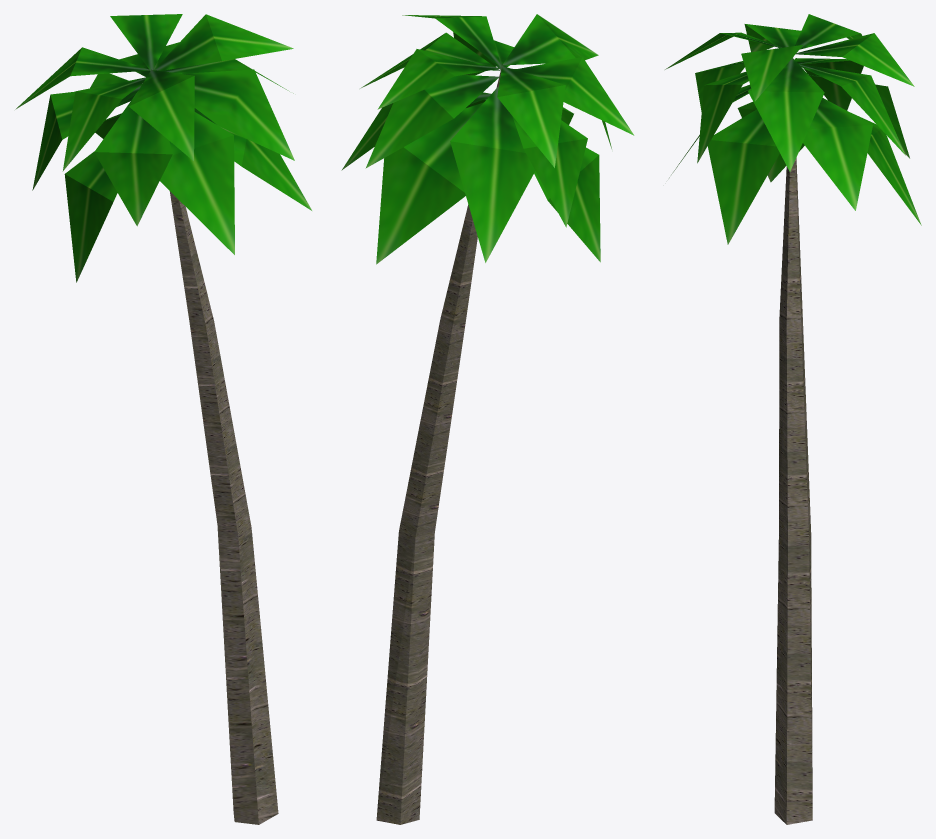
File: Tree03.fbx
3 views of the same model, side by side, from view 1: azimuth 30°, elevation 25°; view 2: azimuth 150°, elevation 25°; view 3: azimuth 270°, elevation 25° (orthographic). The views are drawn at different scales.
Visible parts, largest first — view 1: Default_Layer_1; view 2: Default_Layer_1; view 3: Default_Layer_1.
Part boxes in pixels (<box>): Default_Layer_1: <box>15,14,311,824</box>; Default_Layer_1: <box>341,14,634,824</box>; Default_Layer_1: <box>665,14,921,824</box>.
Size of the model in its own units: 1392 by 4224 by 1319.
